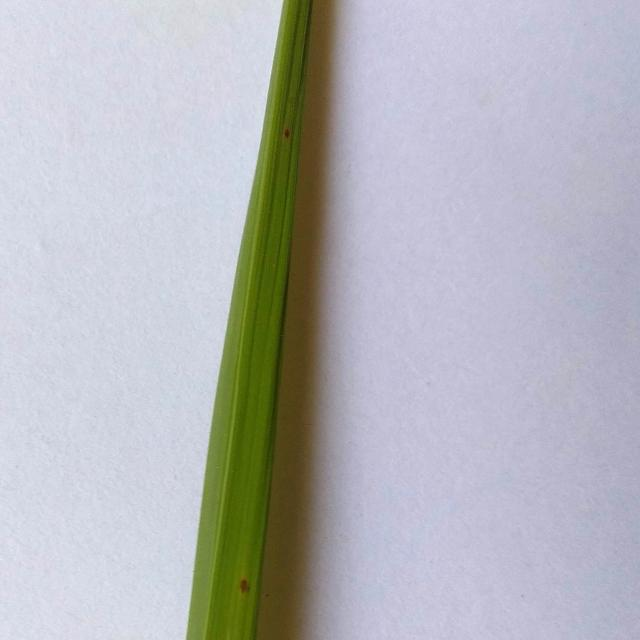brownspots: (233, 560, 254, 609), (280, 118, 294, 144)
